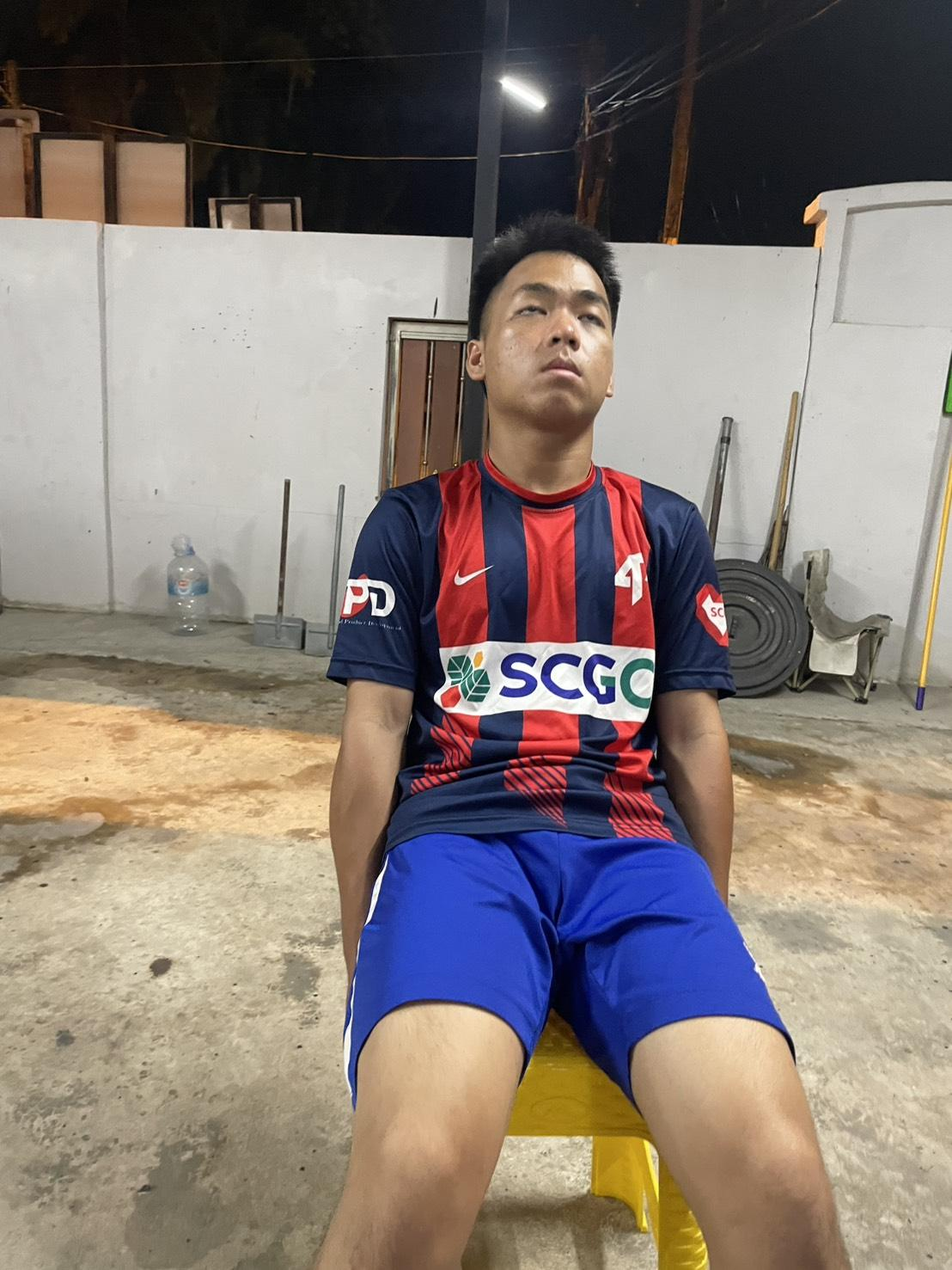BadPosture: (314, 216, 851, 1269), (328, 215, 733, 867)
